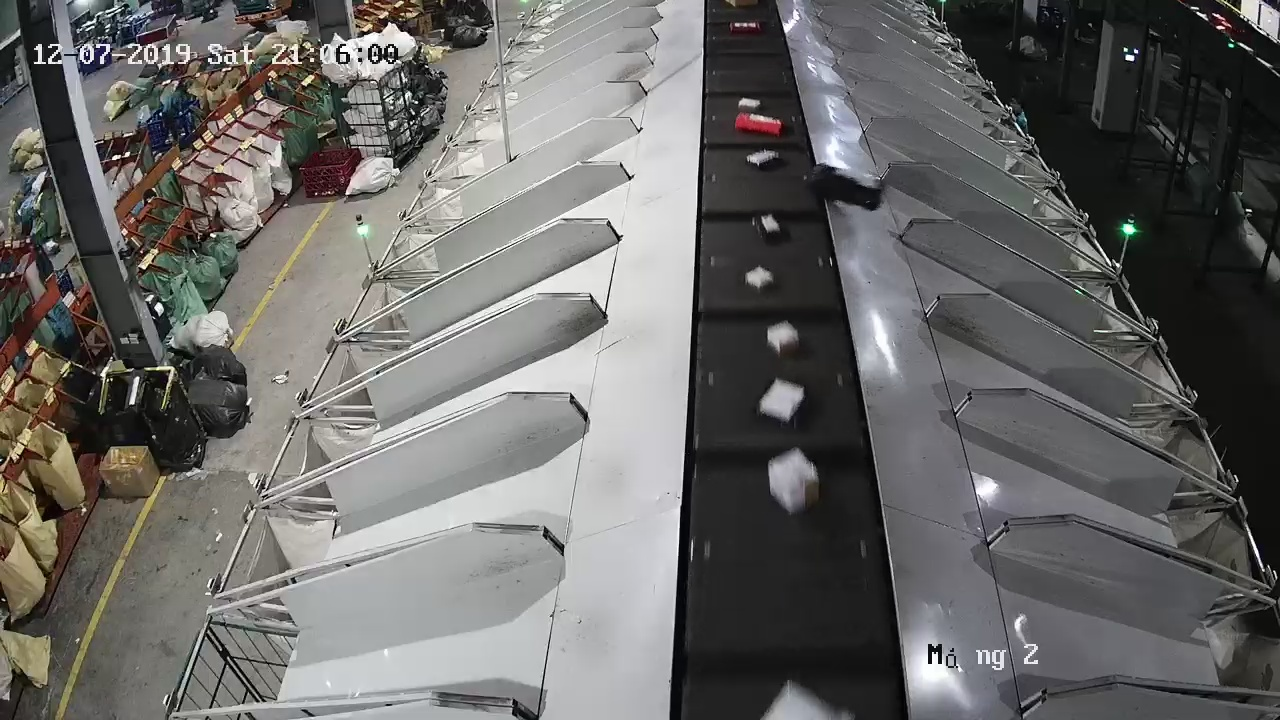parcel: (805, 161, 884, 211)
